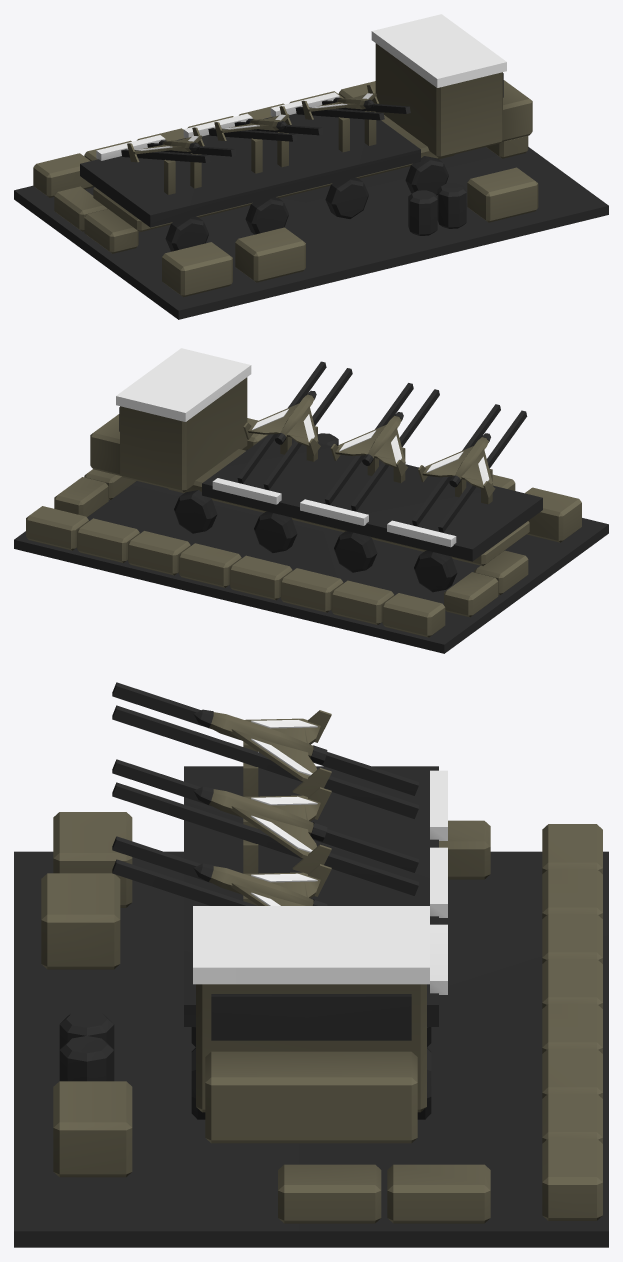
File: ru-geran-site.glb
The picture shows the model from 3 angles, top to bottom: view 1: azimuth 30°, elevation 25°; view 2: azimuth 150°, elevation 25°; view 3: azimuth 270°, elevation 25°; orthographic projection. The views are drawn at different scales.
Visible parts, largest first — view 1: ru-geran-site; view 2: ru-geran-site; view 3: ru-geran-site.
Boxes of the visible parts, box(x1,y1,x2,y2) form: ru-geran-site: box(14, 14, 608, 319); ru-geran-site: box(14, 348, 608, 653); ru-geran-site: box(14, 682, 608, 1247).
Size of the model in its own units: 2.96 by 0.8501 by 1.96.
